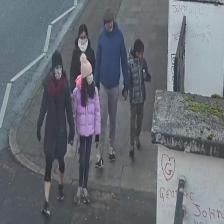person: (36, 50, 74, 214), (93, 7, 128, 168), (71, 53, 101, 203), (70, 23, 94, 165), (128, 38, 150, 158)
